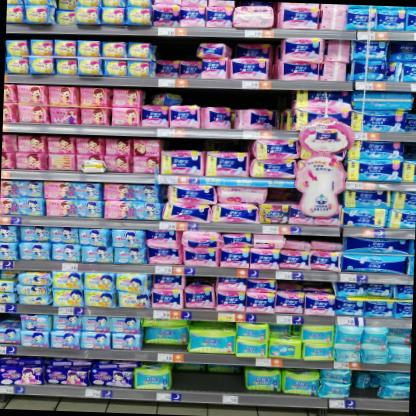empty_space: (174, 370, 245, 393), (353, 387, 380, 400)
